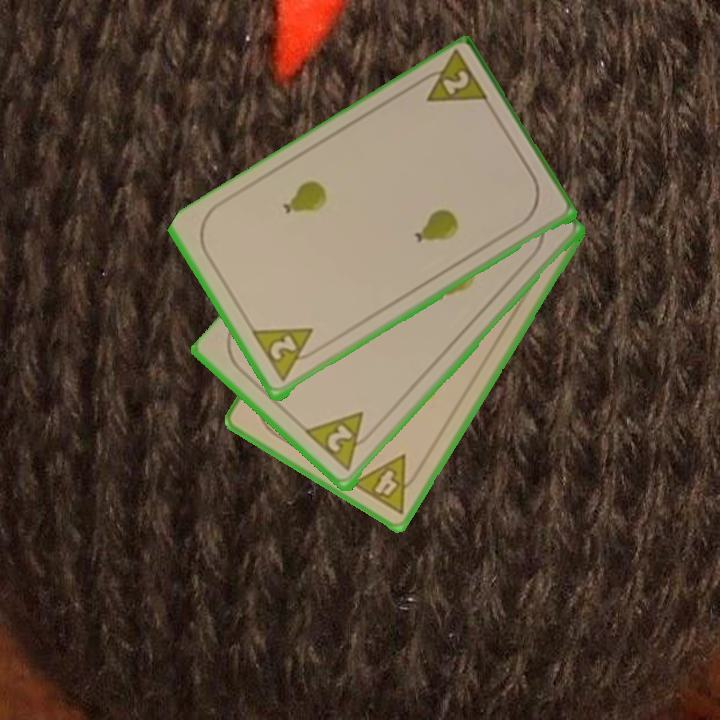2p: (303, 408, 379, 475), (411, 49, 492, 108), (249, 324, 325, 385)
4p: (347, 451, 426, 517)
